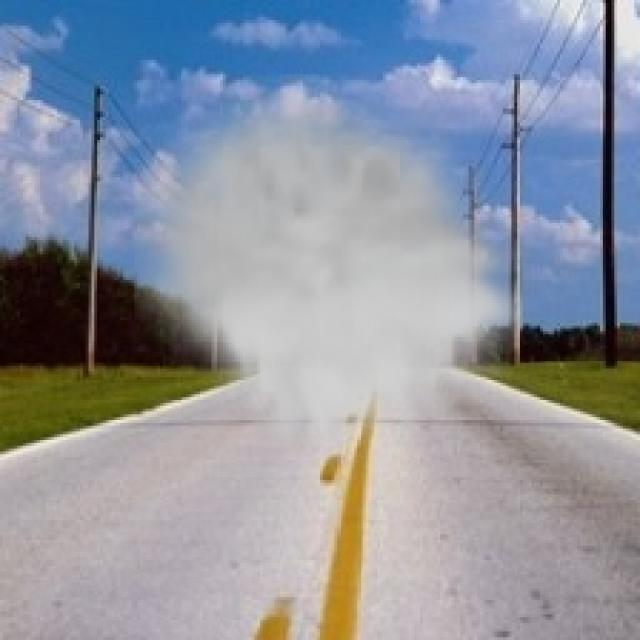smoke: (134, 74, 523, 466)
